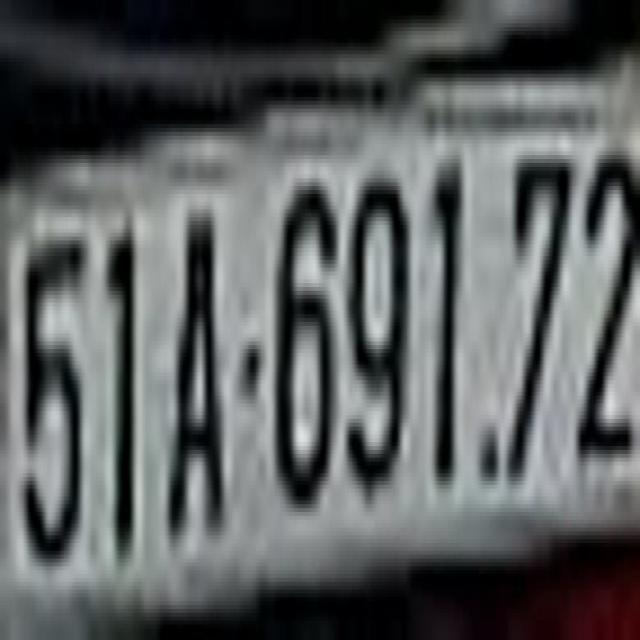1: (424, 147, 468, 489), (102, 214, 140, 566)
2: (581, 97, 638, 477)
5: (21, 202, 89, 562)
6: (273, 155, 337, 493)
7: (504, 124, 566, 489)
9: (346, 170, 415, 492)
A: (165, 182, 225, 543)
